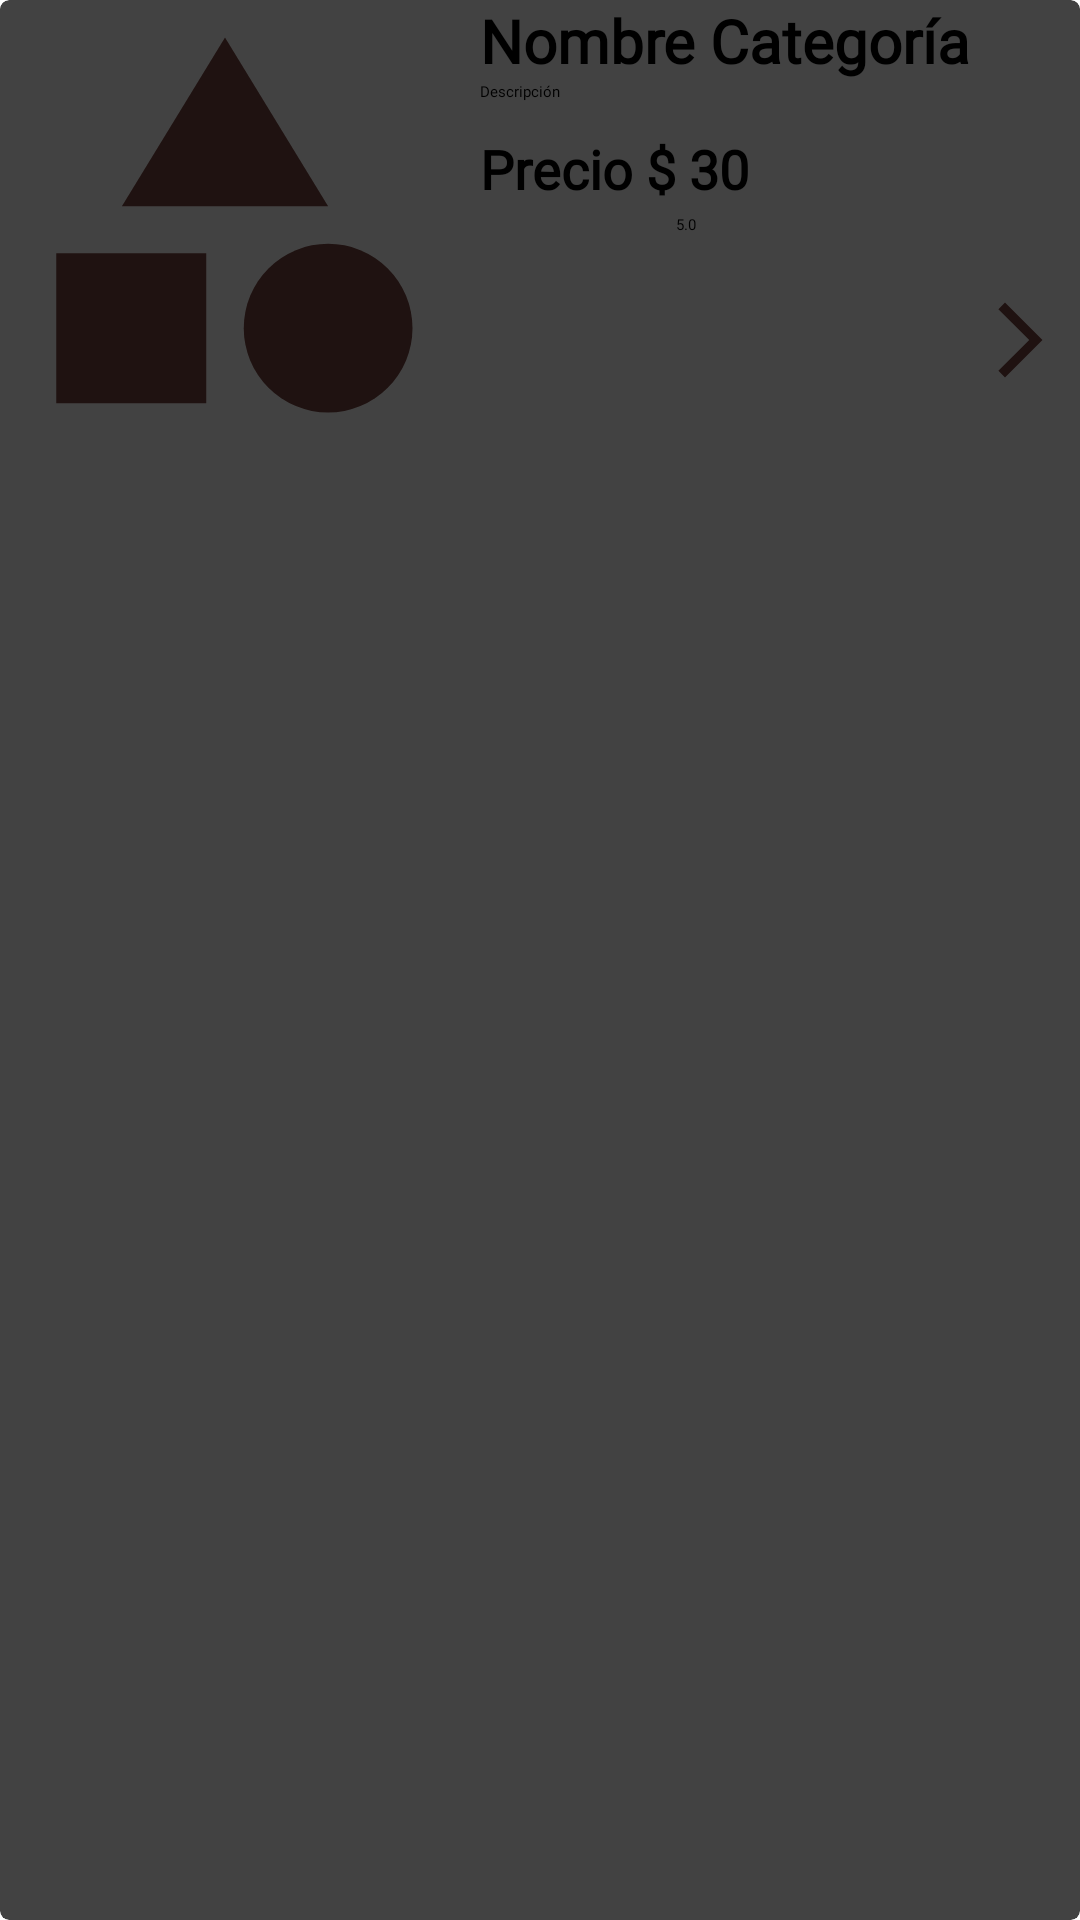

Point at icon controls on the screen. Image size 1080×1920, points as point (x, y).
flecha: point (1020, 340)
